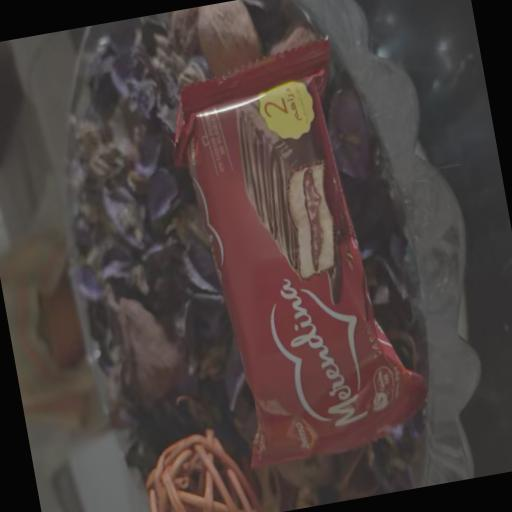merendina: (140, 16, 465, 504)
